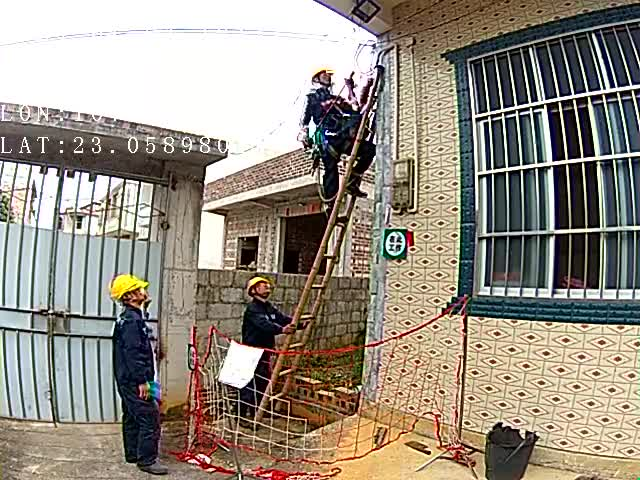downsuit: (321, 133, 377, 194), (121, 386, 160, 460)
halt: (111, 275, 150, 310), (247, 277, 272, 302), (311, 66, 336, 88)
hand: (138, 381, 151, 401), (282, 322, 297, 335)
intosign: (186, 343, 197, 372)
person: (107, 273, 169, 471), (300, 66, 363, 204), (232, 277, 294, 416)
support: (229, 267, 309, 422)
testrod: (307, 71, 355, 144)
upsuit: (112, 310, 156, 384), (241, 301, 288, 350), (304, 88, 346, 130)
worksign: (382, 227, 409, 261)
